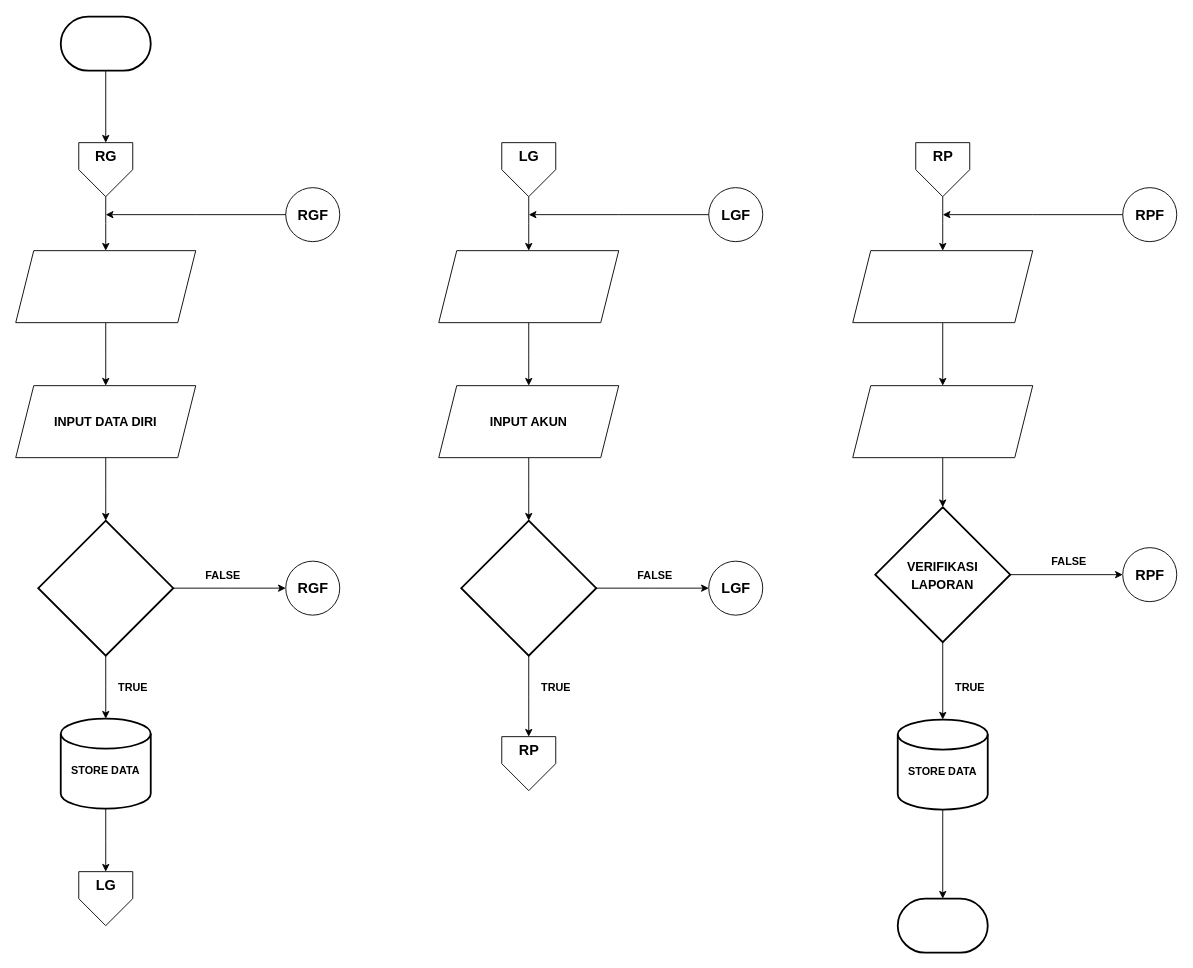
Image size: 1193x968. Some labels were removed from this diagram. The shapes that lost their labels are listed below. From the top down, each one's centre as x and y in pixels, then its label:
point (105, 43): START
point (105, 286): MENAMPILKAN FORM REGISTRASI
point (528, 286): MENAMPILKAN FORM LOGIN
point (942, 286): MENAMPILKAN HALAMAN PENGADUAN
point (942, 421): INPUT LAPORAN
point (105, 587): VALIDASI REQUEST
point (528, 587): CEK AKUN
point (942, 925): END
